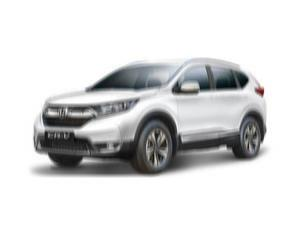Car hood: (47, 84, 160, 105)
Fender - -F-L-: (137, 83, 180, 142)
Fender - -R-L-: (234, 65, 267, 131)
Front bumper: (31, 112, 141, 159)
Headlight - -L-: (89, 96, 139, 120)
Passenger-s door - -F-L-: (173, 52, 220, 152)
Passenger-s door - -R-L-: (211, 53, 248, 153)
Rear bumper: (260, 126, 269, 146)
Rear light - -L-: (254, 85, 265, 99)
Side bumper - -L-: (173, 128, 243, 156)
Side mirror - -L-: (174, 80, 200, 96)
